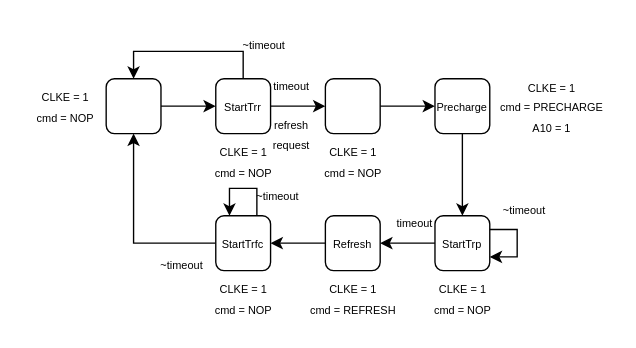
Some shapes in this 636 by 348 pixel diagram are drawn without their labels. The centre of each missing label's shape, as x and y in pixels:
"Auto refresh" goes at point (352, 105).
"Idle" goes at point (133, 105).
